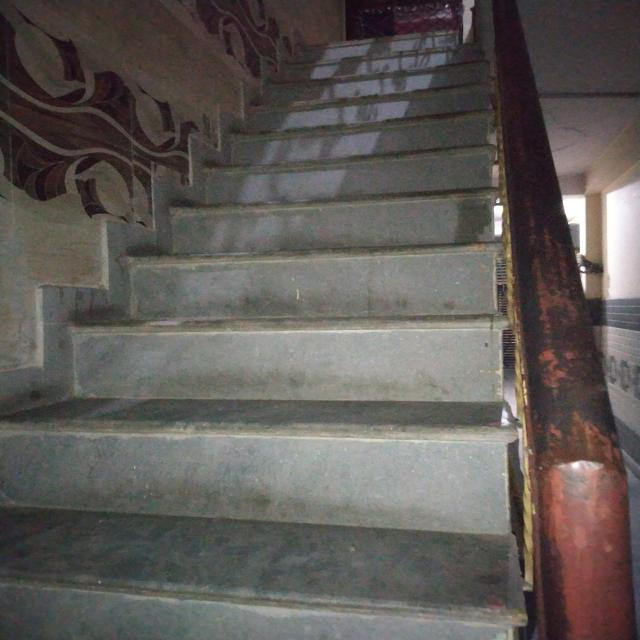Stairs: (0, 32, 635, 624)
